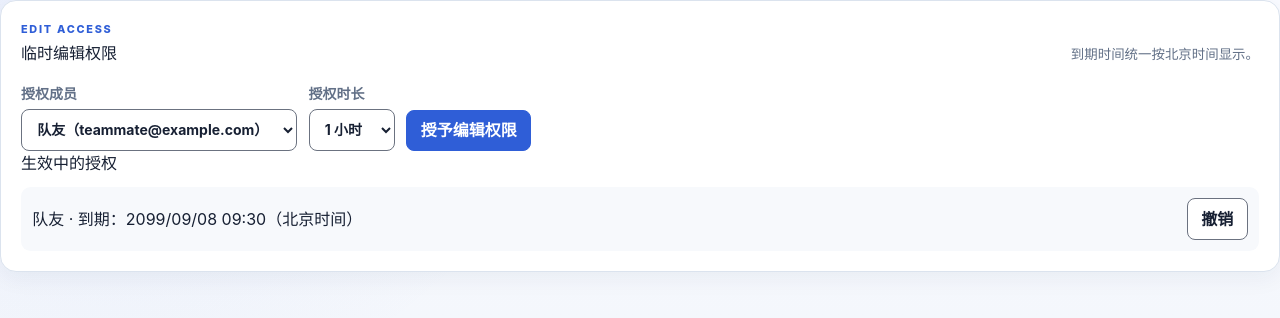
Test case: submits preset expiry as an absolute instant and refreshes on success
Click the button "授予编辑权限".
click(469, 130)  # box [406,110,531,151]
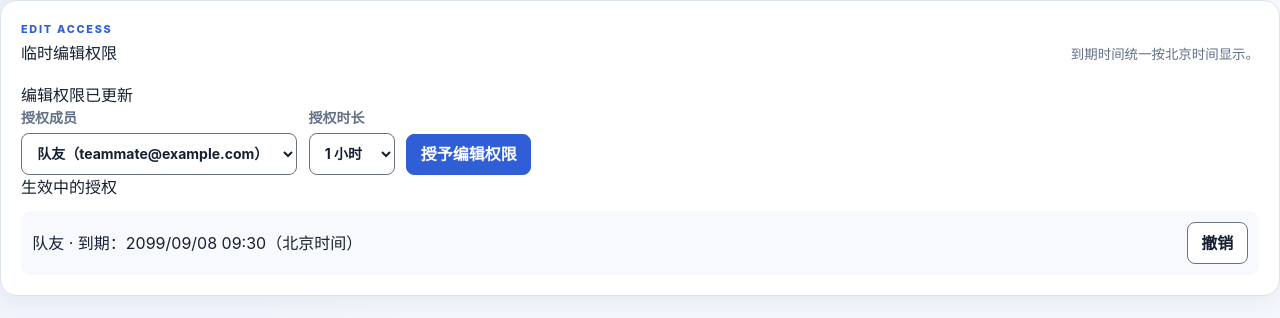
Check: the text "编辑权限已更新" is shown, box [21,85,133,105]
